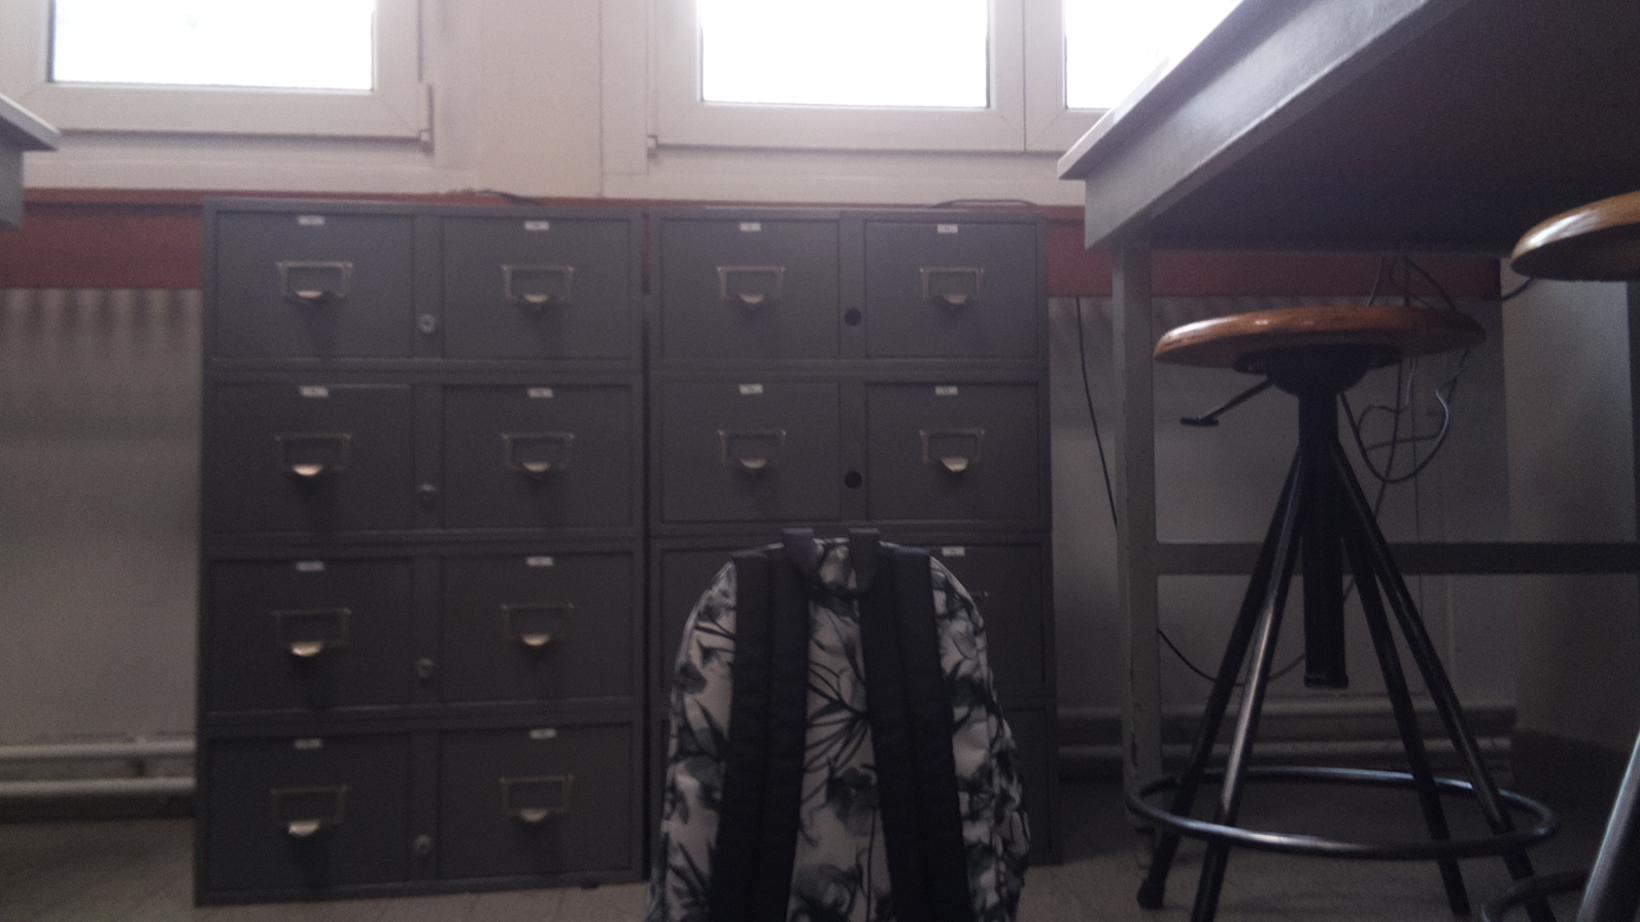medium: (656, 527, 1042, 922)
